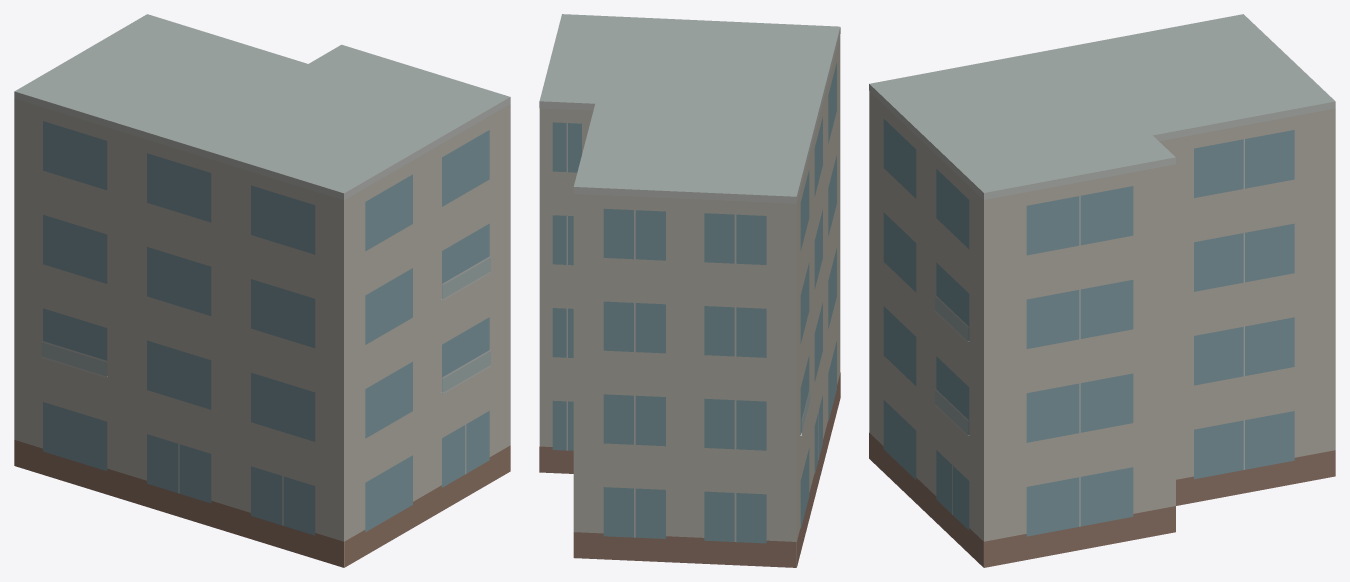
Rendered from survey-upis-32800755.glb.
3 views of the same model, side by side, from view 1: azimuth 30°, elevation 25°; view 2: azimuth 150°, elevation 25°; view 3: azimuth 270°, elevation 25° (orthographic).
Parts seen in each view (by area): view 1: survey-upis-32800755.tmp; view 2: survey-upis-32800755.tmp; view 3: survey-upis-32800755.tmp.
Part boxes in pixels (left/top/right/bottom): survey-upis-32800755.tmp: left=14, top=14, right=510, bottom=567; survey-upis-32800755.tmp: left=539, top=14, right=840, bottom=567; survey-upis-32800755.tmp: left=869, top=14, right=1335, bottom=567.
Bounding box in the file's own units: 13.43 × 13.1 × 14.79.
